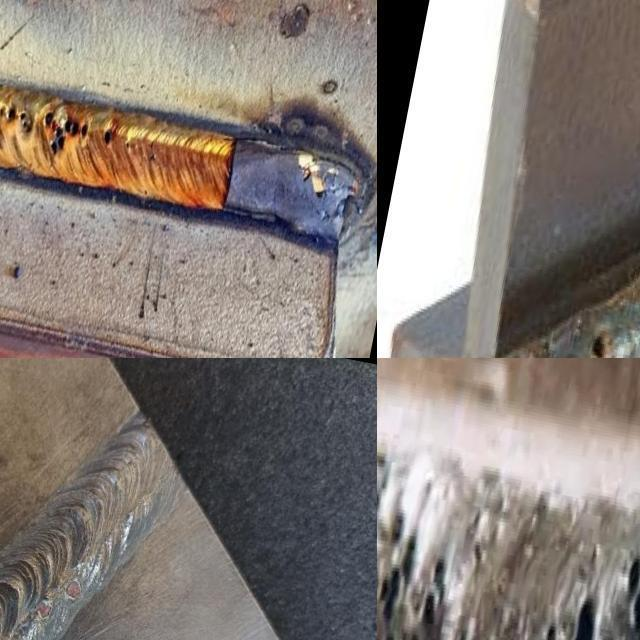defect: (377, 452, 454, 640), (41, 107, 91, 160), (623, 545, 640, 638), (466, 507, 489, 567), (0, 104, 32, 134), (585, 330, 612, 358), (35, 591, 57, 622), (61, 575, 84, 601), (122, 509, 136, 530), (102, 127, 114, 151), (147, 138, 157, 162), (123, 136, 130, 151)
